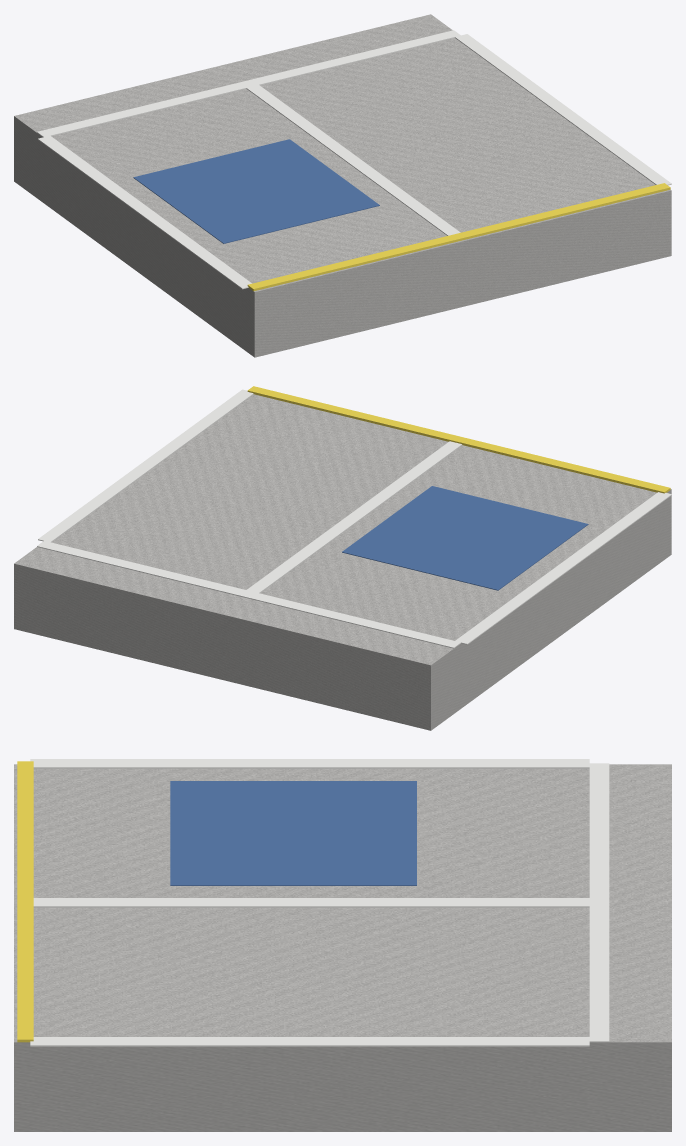
The model's file is marina-and-yacht-club-marina-and-yacht-club-car-park-b-c16826bd__38279.glb.
The picture shows the model from 3 angles, top to bottom: view 1: azimuth 30°, elevation 25°; view 2: azimuth 150°, elevation 25°; view 3: azimuth 270°, elevation 25°; orthographic projection. The views are drawn at different scales.
Visible parts, largest first — view 1: marina-and-yacht-club-car-park-bay-module; view 2: marina-and-yacht-club-car-park-bay-module; view 3: marina-and-yacht-club-car-park-bay-module.
Part boxes in pixels (x1,y1,x2,y2): marina-and-yacht-club-car-park-bay-module: (14, 14, 671, 357); marina-and-yacht-club-car-park-bay-module: (14, 386, 671, 730); marina-and-yacht-club-car-park-bay-module: (14, 759, 671, 1131).
Size of the model in its own units: 4.12 by 0.6201 by 4.
4 materials, 1 textured.
